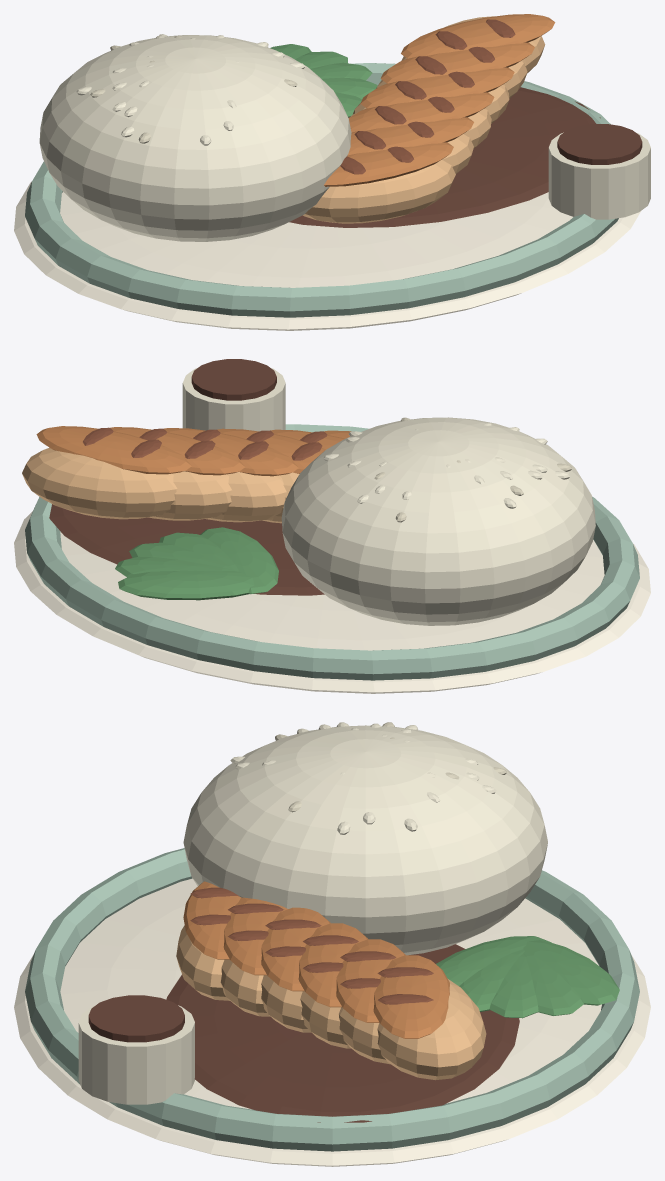
The model's file is chicken_rice.glb.
3 views of the same model, one above another, from view 1: azimuth 30°, elevation 25°; view 2: azimuth 150°, elevation 25°; view 3: azimuth 270°, elevation 25° (orthographic). The views are drawn at different scales.
Parts seen in each view (by area): view 1: rice_mound, chicken_rice_plate_base, chicken_rice_plate_rolled_rim, soy_pool_under_chicken, soy_dipping_cup, fanned_chicken_slice_0, golden_skin_slice_5, soy_dipping_surface, golden_skin_slice_0, golden_skin_slice_3, golden_skin_slice_4, golden_skin_slice_2 (+9 smaller); view 2: rice_mound, chicken_rice_plate_base, chicken_rice_plate_rolled_rim, fanned_chicken_slice_5, soy_pool_under_chicken, soy_dipping_cup, golden_skin_slice_5, bok_choy_side_4, soy_dipping_surface, fanned_chicken_slice_4, fanned_chicken_slice_3, bok_choy_side_0 (+6 smaller); view 3: rice_mound, chicken_rice_plate_rolled_rim, chicken_rice_plate_base, soy_pool_under_chicken, soy_dipping_cup, fanned_chicken_slice_5, golden_skin_slice_5, soy_dipping_surface, bok_choy_side_4, golden_skin_slice_3, golden_skin_slice_4, golden_skin_slice_2 (+11 smaller).
Part boxes in pixels (<box>): rice_mound: <box>39,35,351,241</box>; chicken_rice_plate_base: <box>14,181,640,330</box>; chicken_rice_plate_rolled_rim: <box>25,63,618,317</box>; soy_pool_under_chicken: <box>289,87,600,227</box>; soy_dipping_cup: <box>548,132,650,219</box>; fanned_chicken_slice_0: <box>303,159,455,223</box>; golden_skin_slice_5: <box>401,14,555,58</box>; soy_dipping_surface: <box>557,124,642,164</box>; golden_skin_slice_0: <box>324,142,453,186</box>; golden_skin_slice_3: <box>360,67,514,108</box>; golden_skin_slice_4: <box>380,42,534,83</box>; golden_skin_slice_2: <box>348,92,494,132</box>; rice_mound: <box>281,417,595,625</box>; chicken_rice_plate_base: <box>14,511,650,693</box>; chicken_rice_plate_rolled_rim: <box>25,424,639,680</box>; fanned_chicken_slice_5: <box>22,447,177,519</box>; soy_pool_under_chicken: <box>49,504,324,595</box>; soy_dipping_cup: <box>182,368,285,431</box>; golden_skin_slice_5: <box>36,426,191,474</box>; bok_choy_side_4: <box>118,570,254,600</box>; soy_dipping_surface: <box>191,359,276,400</box>; fanned_chicken_slice_4: <box>149,471,231,520</box>; fanned_chicken_slice_3: <box>206,472,286,522</box>; bok_choy_side_0: <box>200,527,278,594</box>; rice_mound: <box>183,725,547,955</box>; chicken_rice_plate_rolled_rim: <box>25,848,639,1151</box>; chicken_rice_plate_base: <box>14,878,650,1166</box>; soy_pool_under_chicken: <box>166,944,519,1122</box>; soy_dipping_cup: <box>78,1005,194,1104</box>; fanned_chicken_slice_5: <box>377,979,486,1080</box>; golden_skin_slice_5: <box>373,955,449,1038</box>; soy_dipping_surface: <box>88,995,184,1042</box>; bok_choy_side_4: <box>523,940,619,1005</box>; golden_skin_slice_3: <box>298,923,367,1007</box>; golden_skin_slice_4: <box>336,939,405,1022</box>; golden_skin_slice_2: <box>261,907,330,991</box>.
Bounding box in the file's own units: 0.9 × 0.283 × 0.765.
